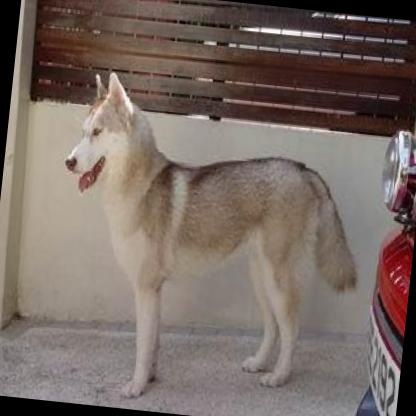Eskimo_dog: (41, 65, 376, 416)
